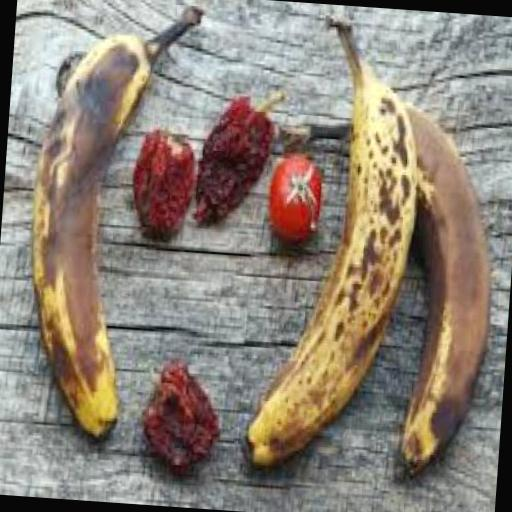biodegradable: (256, 84, 504, 484), (243, 14, 426, 470), (15, 0, 202, 439), (190, 88, 286, 234), (138, 356, 224, 473), (126, 122, 197, 242), (265, 149, 322, 242)
